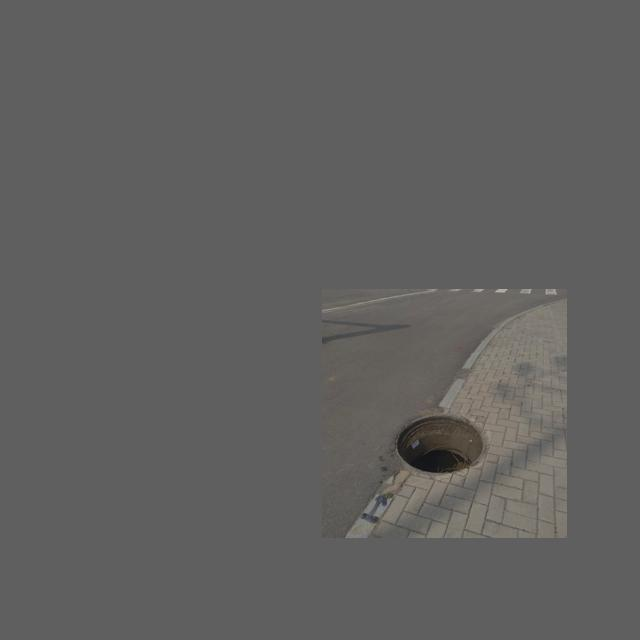lose: (396, 413, 486, 474)
